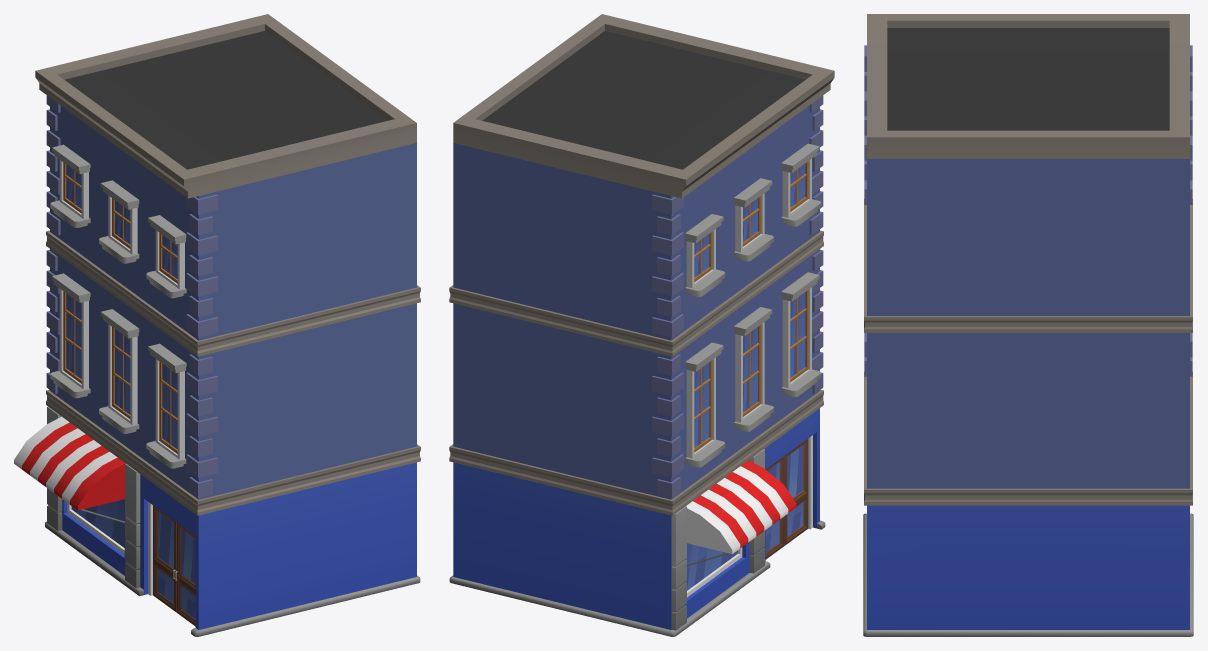
Rendered from Building_8_1_K.fbx.
The picture shows the model from 3 angles, left to right: view 1: azimuth 30°, elevation 25°; view 2: azimuth 150°, elevation 25°; view 3: azimuth 270°, elevation 25°; orthographic projection. The views are drawn at different scales.
Parts seen in each view (by area): view 1: Building 8_1_K; view 2: Building 8_1_K; view 3: Building 8_1_K.
Boxes of the visible parts, box(x1,y1,x2,y2) form: Building 8_1_K: box(14, 14, 420, 636); Building 8_1_K: box(449, 14, 834, 636); Building 8_1_K: box(863, 14, 1193, 636).
Size of the model in its own units: 681 by 1108 by 667.
